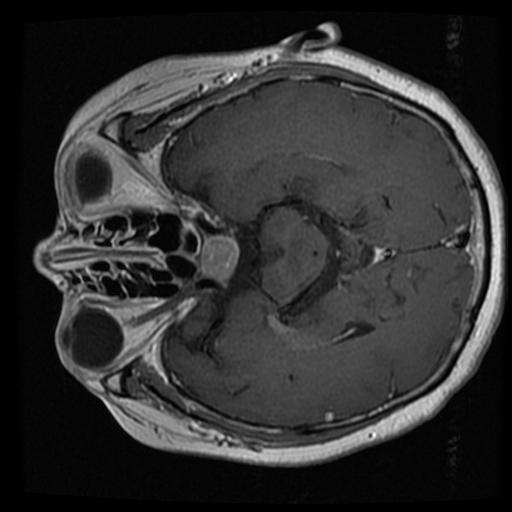pituitary tumour: (199, 233, 240, 284)
